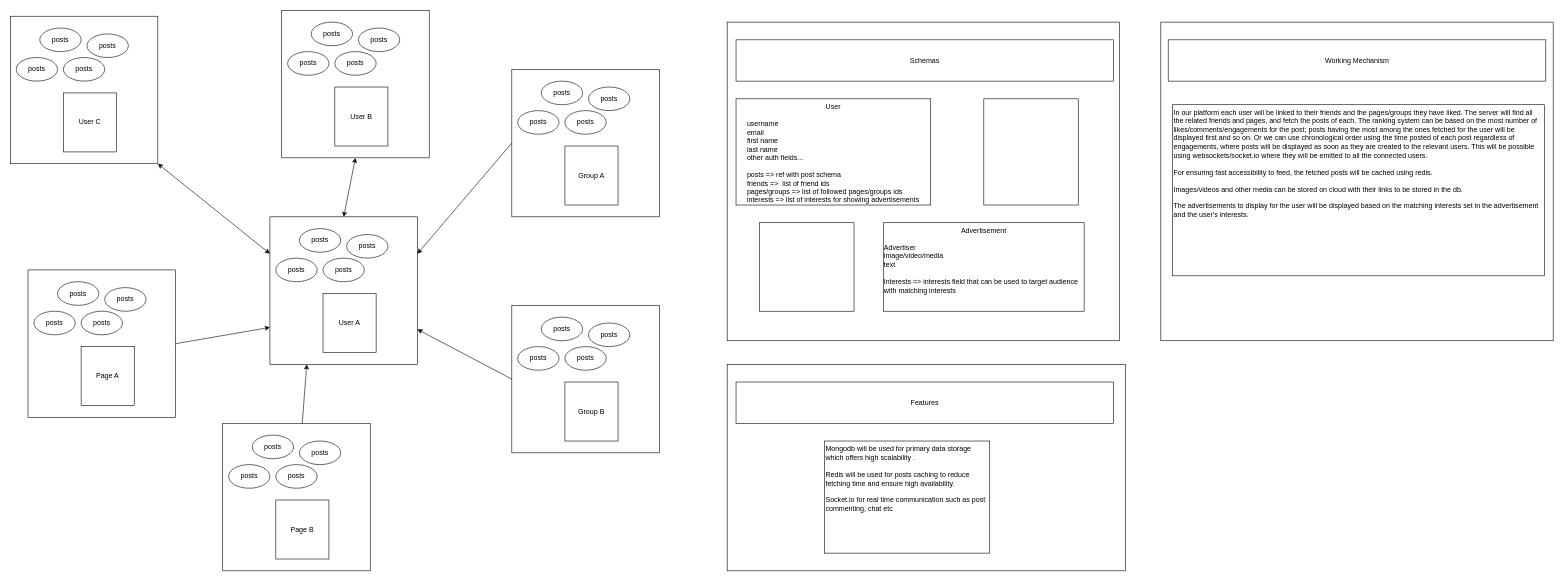
Image size: 1563x581. Some labels were removed from this diagram. Each missing label, with the centre of its shape:
"Page/Goup Name users posts" goes at (806,266).
"Posts Image/video/media text likes comments shares" goes at (1030,151).
